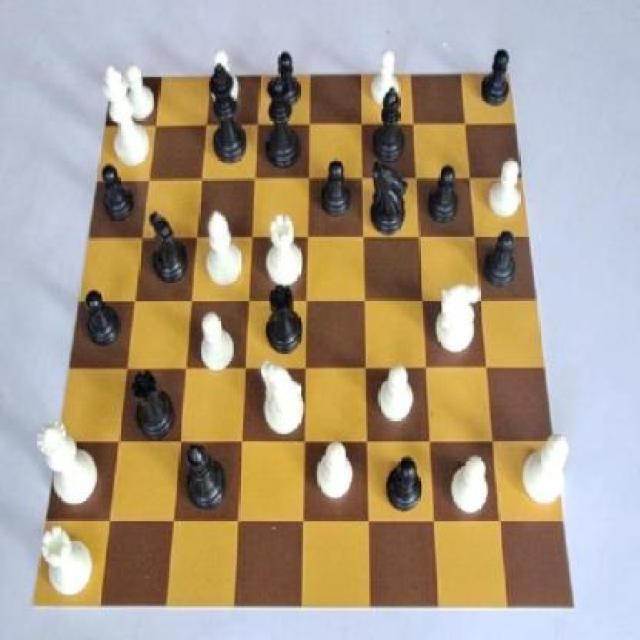bishop: (178, 437, 231, 519), (371, 84, 408, 170)
black-bishop: (204, 52, 253, 166)
black-king: (142, 203, 190, 292), (366, 155, 413, 240)
black-knight: (80, 281, 126, 354), (97, 157, 142, 230), (381, 451, 427, 522), (472, 38, 516, 112), (425, 156, 469, 226), (480, 225, 525, 293), (269, 41, 306, 117), (317, 149, 355, 221)
black-pawn: (259, 70, 303, 184)
black-queen: (129, 366, 176, 446), (261, 274, 304, 356)
black-rook: (517, 420, 572, 509), (203, 203, 250, 294)
white-bishop: (99, 61, 152, 176)
white-king: (432, 270, 482, 362), (252, 357, 308, 438)
white-knight: (371, 360, 422, 435), (110, 55, 162, 127), (448, 448, 493, 522), (312, 428, 356, 502), (484, 147, 524, 226), (197, 308, 241, 379), (203, 46, 247, 112), (366, 43, 404, 115)
white-pawn: (36, 416, 106, 516)
white-queen: (37, 520, 98, 599), (258, 211, 310, 293)
